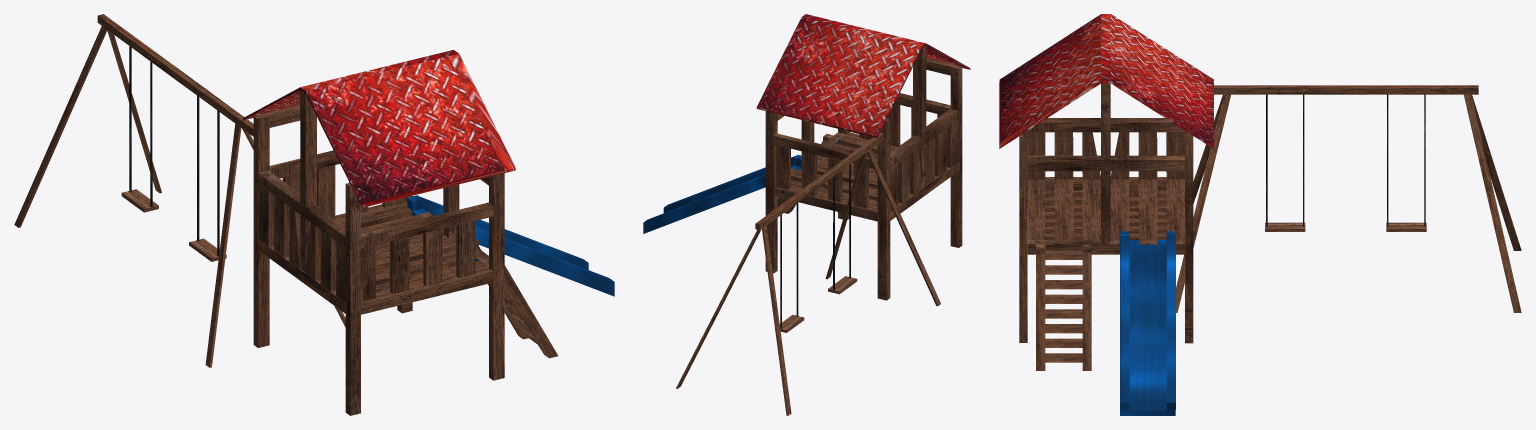
Rendered from columpio.obj.
3 renders of one model, left to right at view 1: azimuth 30°, elevation 25°; view 2: azimuth 150°, elevation 25°; view 3: azimuth 270°, elevation 25°, orthographic. The views are drawn at different scales.
Parts seen in each view (by area): view 1: Cube_Cube.001; view 2: Cube_Cube.001; view 3: Cube_Cube.001.
Boxes of the visible parts, left/top/right/bottom form: Cube_Cube.001: left=14, top=14, right=614, bottom=415; Cube_Cube.001: left=643, top=14, right=970, bottom=415; Cube_Cube.001: left=999, top=14, right=1521, bottom=415.
Size of the model in its own units: 256 by 189 by 342.
Materials: 1 (1 with a texture image).
